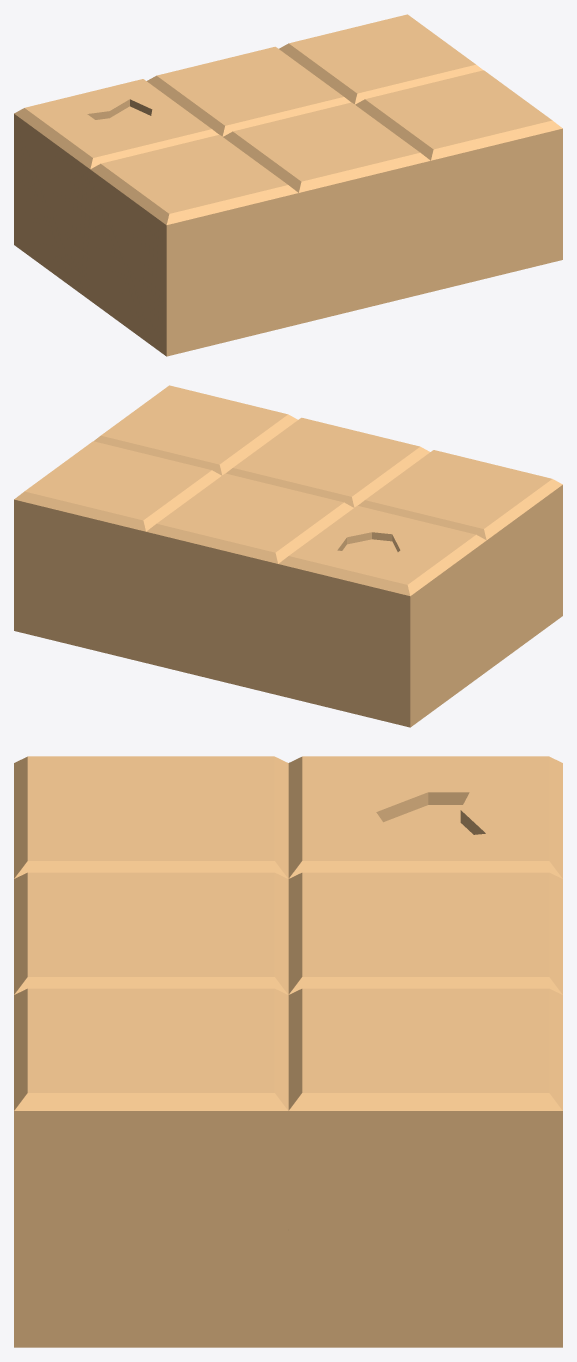
Rendered from 3x2 Floor.fbx.
3 renders of one model, top to bottom at view 1: azimuth 30°, elevation 25°; view 2: azimuth 150°, elevation 25°; view 3: azimuth 270°, elevation 25°, orthographic. The views are drawn at different scales.
Visible parts, largest first — view 1: Cube; view 2: Cube; view 3: Cube.
Part boxes in pixels (box(x1,y1,x2,y2)): Cube: box(14, 14, 562, 356); Cube: box(14, 385, 562, 727); Cube: box(14, 756, 562, 1347).
Bounding box in the file's own units: 300 × 100 × 200.
